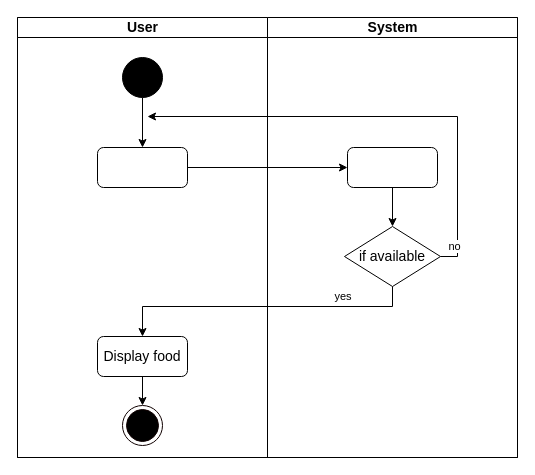
This 535x475 diagram has some shape labels left out. Here are the shapes that lost their labels. From the top down, the centre of each, then its label:
At [142,167]: "Explore Menu".
At [392,167]: "Check for Menu".
